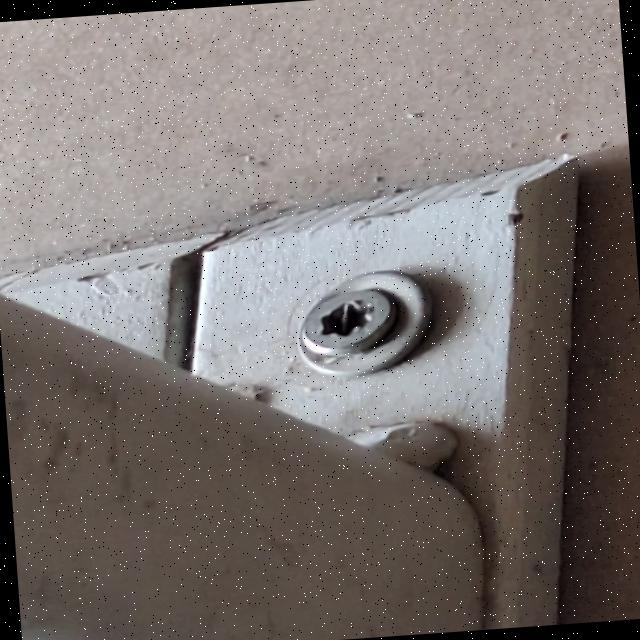Torx: (296, 277, 406, 363)
